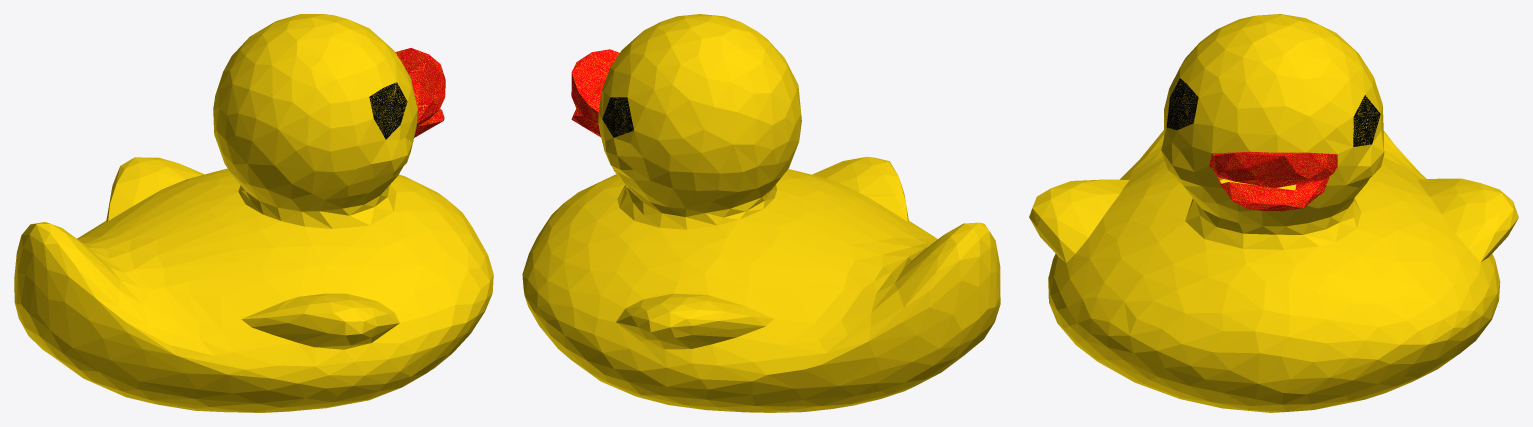
The model's file is yellow_duck.dae.
The picture shows the model from 3 angles, left to right: view 1: azimuth 30°, elevation 25°; view 2: azimuth 150°, elevation 25°; view 3: azimuth 270°, elevation 25°; orthographic projection. The views are drawn at different scales.
Visible parts, largest first — view 1: skp675E (×3); view 2: skp675E (×3); view 3: skp675E (×5).
Boxes of the visible parts, box(x1,y1,x2,y2) form: skp675E (×3): box(14, 14, 493, 412); skp675E (×3): box(522, 14, 1000, 412); skp675E (×5): box(1029, 14, 1518, 412).
Bounding box in the file's own units: 2.45 × 2.19 × 1.68.
